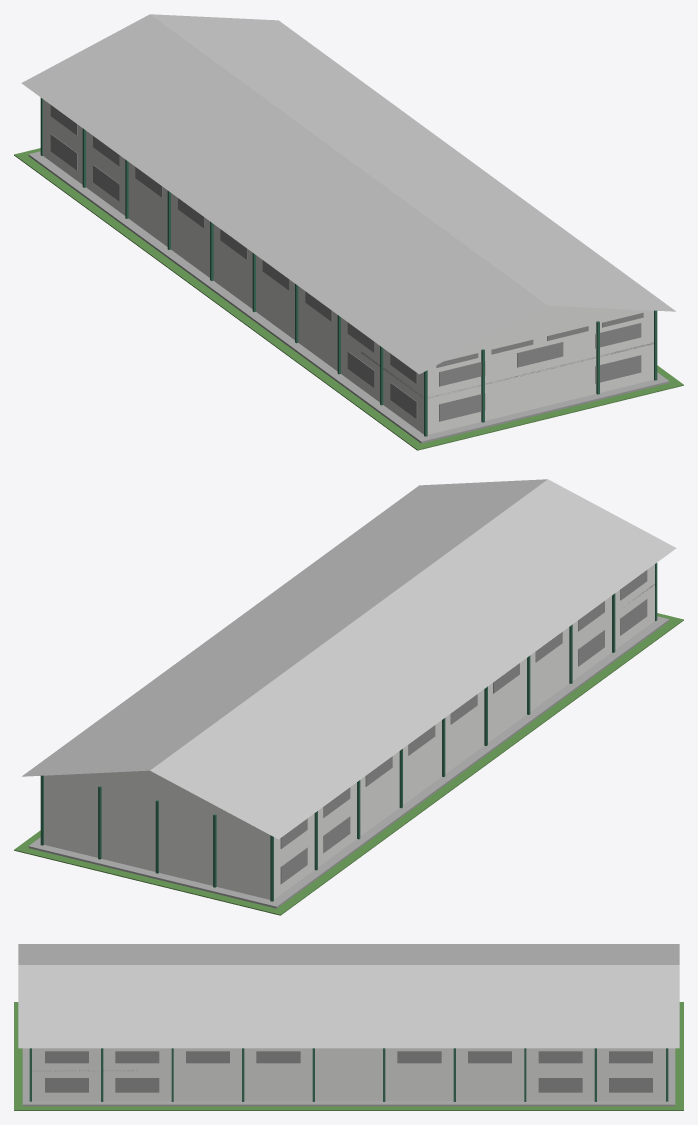
File: Type B.glb
3 renders of one model, top to bottom at view 1: azimuth 30°, elevation 25°; view 2: azimuth 150°, elevation 25°; view 3: azimuth 270°, elevation 25°, orthographic. The views are drawn at different scales.
Visible parts, largest first — view 1: Atap_Utama, Dinding_Utama, Alas_Teras, Alas_Rumput, Jendela_4_0_2.0, Jendela_21_0_2.0, Jendela_12.5_0_5.5, Jendela_4_0_5.5, Jendela_21_0_5.5; view 2: Atap_Utama, Dinding_Utama, Alas_Teras, Alas_Rumput; view 3: Atap_Utama, Dinding_Utama, Alas_Rumput, Alas_Teras, Jendela_25.0_12_2.0, Jendela_25.0_60_2.0, Jendela_25.0_4_2.0, Jendela_25.0_68_2.0, Jendela_25.0_28_5.5, Jendela_25.0_44_5.5, Jendela_25.0_12_5.5, Jendela_25.0_60_5.5 (+4 smaller).
Part boxes in pixels (box(x1,y1,x2,y2)): Atap_Utama: box(21, 14, 675, 374); Dinding_Utama: box(43, 99, 653, 434); Alas_Teras: box(28, 151, 669, 443); Alas_Rumput: box(14, 148, 683, 450); Jendela_4_0_2.0: box(439, 393, 485, 421); Jendela_21_0_2.0: box(595, 355, 641, 383); Jendela_12.5_0_5.5: box(517, 342, 563, 367); Jendela_4_0_5.5: box(439, 361, 485, 386); Jendela_21_0_5.5: box(595, 323, 641, 348); Atap_Utama: box(22, 479, 676, 839); Dinding_Utama: box(44, 564, 654, 899); Alas_Teras: box(28, 616, 669, 908); Alas_Rumput: box(14, 613, 683, 915); Atap_Utama: box(18, 944, 679, 1048); Dinding_Utama: box(32, 1048, 665, 1100); Alas_Rumput: box(14, 1002, 683, 1110); Alas_Teras: box(22, 1048, 675, 1106); Jendela_25.0_12_2.0: box(115, 1078, 159, 1092); Jendela_25.0_60_2.0: box(538, 1078, 582, 1092); Jendela_25.0_4_2.0: box(45, 1078, 88, 1092); Jendela_25.0_68_2.0: box(609, 1078, 652, 1092); Jendela_25.0_28_5.5: box(256, 1051, 300, 1063); Jendela_25.0_44_5.5: box(397, 1051, 441, 1063); Jendela_25.0_12_5.5: box(115, 1051, 159, 1063); Jendela_25.0_60_5.5: box(538, 1051, 582, 1063).
Size of the model in its own units: 29 by 11.5 by 76.
